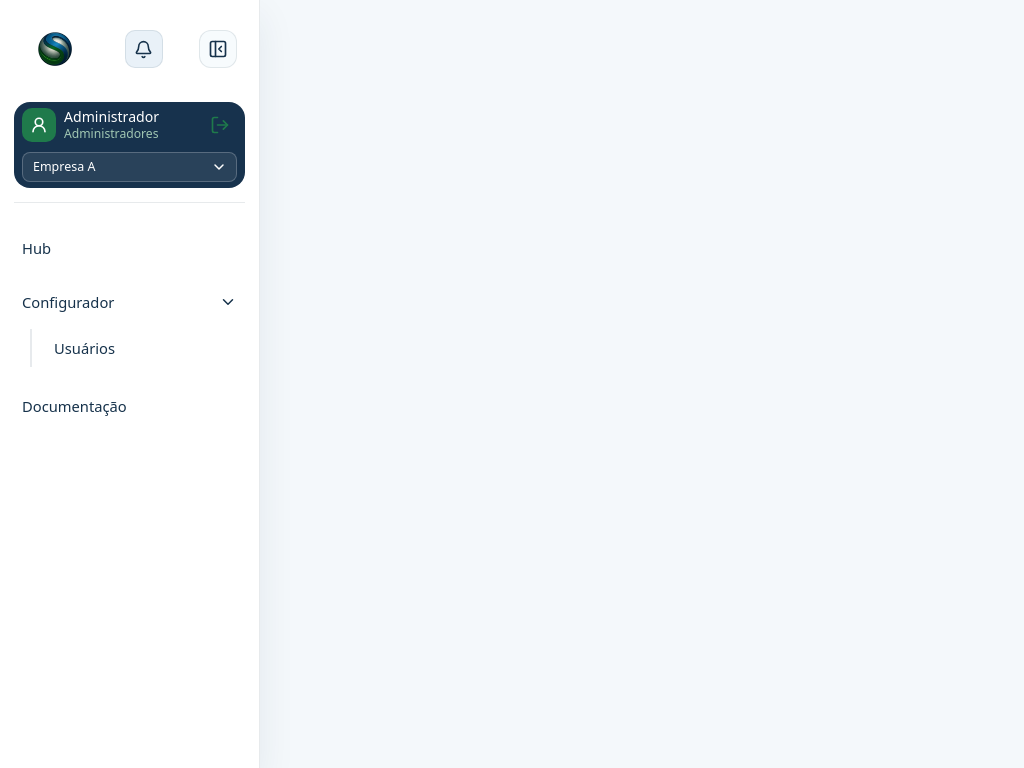
Test: Header autenticado › restaura a empresa selecionada e apresenta erro quando a troca falha
Click the button with aria-label "Trocar empresa ativa": (130, 167) [22, 152, 237, 182]
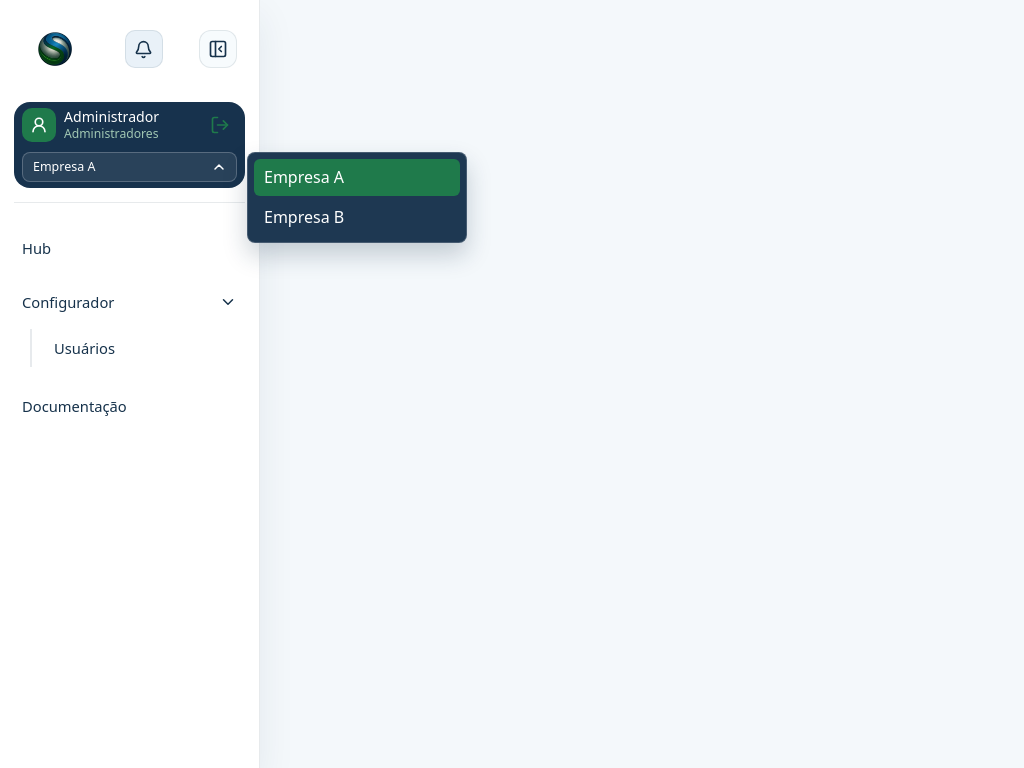
Click the option "Empresa B": (357, 218) [254, 199, 460, 236]
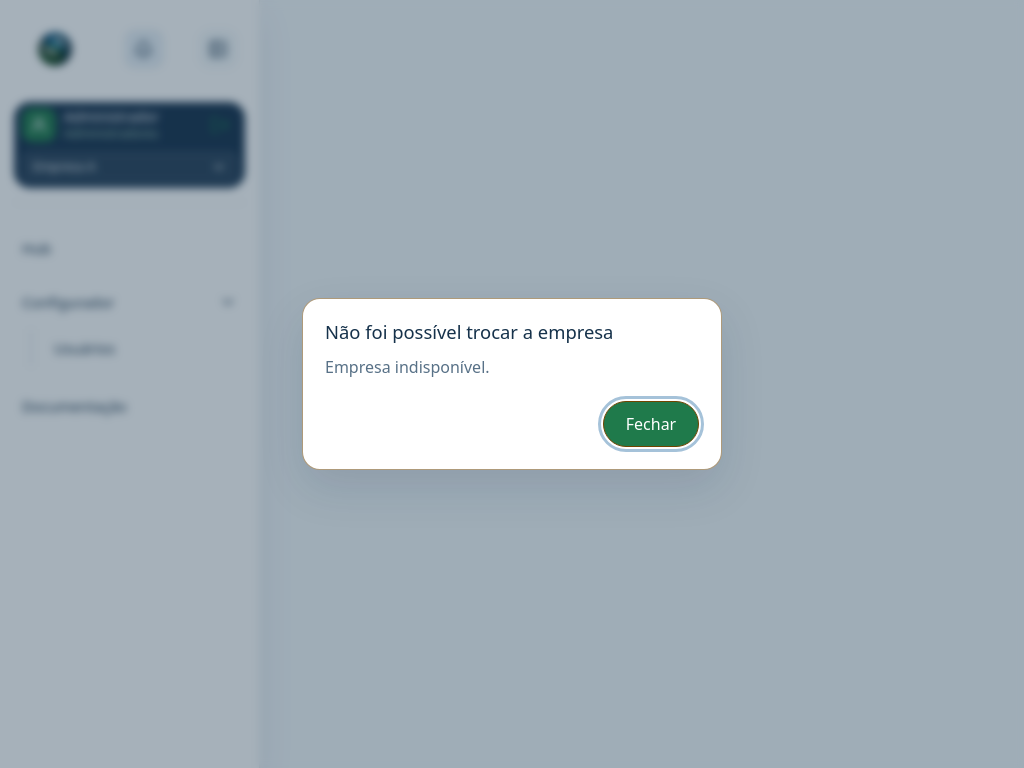
Result: the dialog "Não foi possível trocar a empresa" shows "Empresa indisponível." at [325, 356, 490, 378]
Click the button "Fechar": (651, 424) [603, 401, 699, 447]
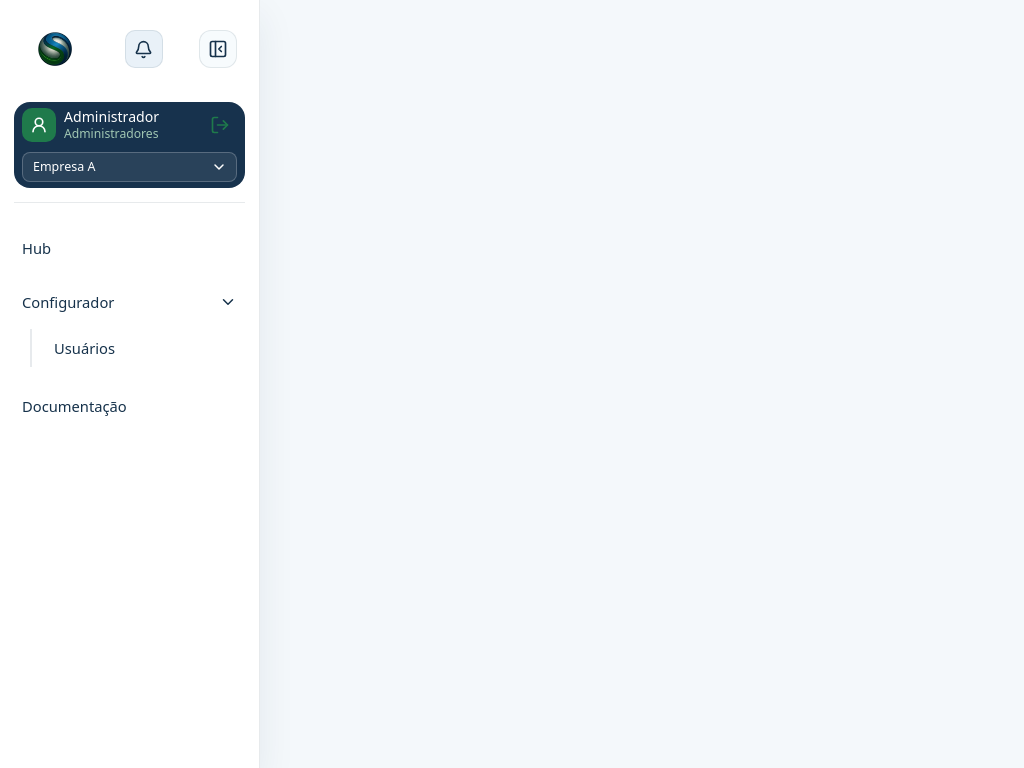
Result: the dialog is gone
